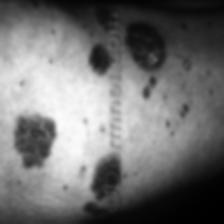Non-Cancerous Skin Condition: (124, 12, 192, 86), (7, 99, 62, 170), (80, 140, 126, 218), (84, 3, 114, 80)
